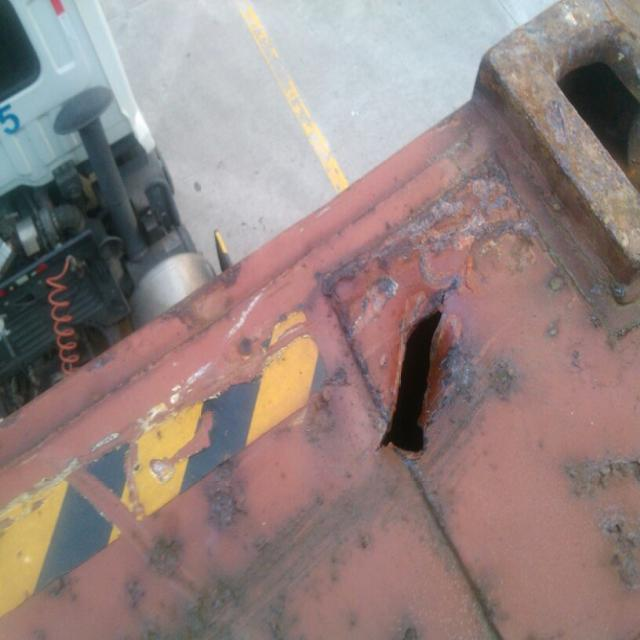hole: (372, 288, 465, 472)
